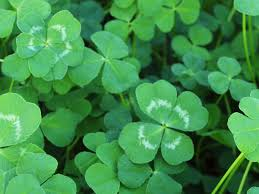4-clover: (120, 78, 207, 164)
